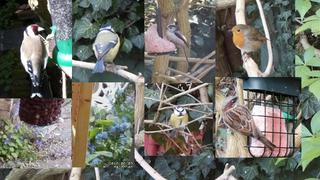blue tit: (92, 24, 120, 73), (168, 106, 189, 138)
goldfinch: (20, 24, 48, 98)
long tailed tit: (165, 24, 191, 74)
robin: (228, 24, 271, 62)
sparrow: (221, 96, 277, 152)
